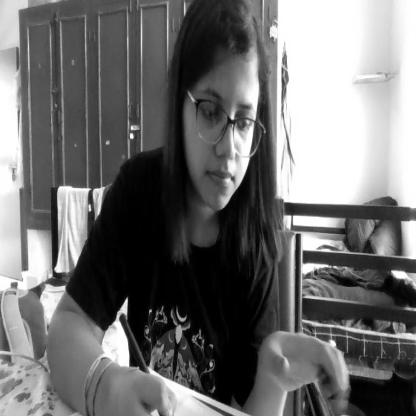Distracted: (177, 0, 267, 227)
